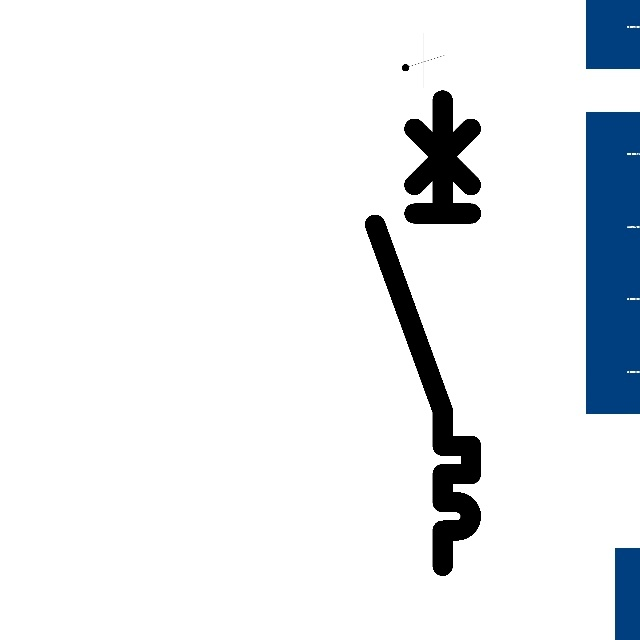interruptor_termomagnetico: (363, 88, 483, 577)
